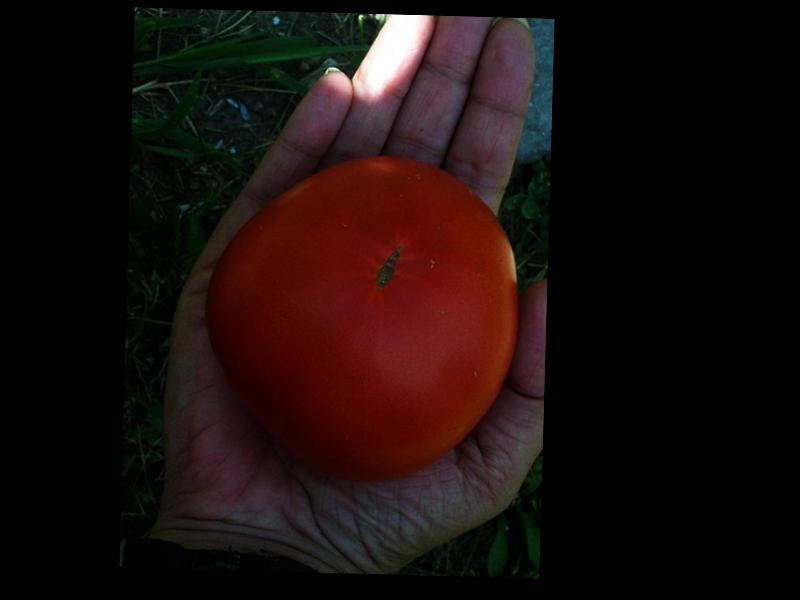Tomato: (201, 152, 522, 481)
